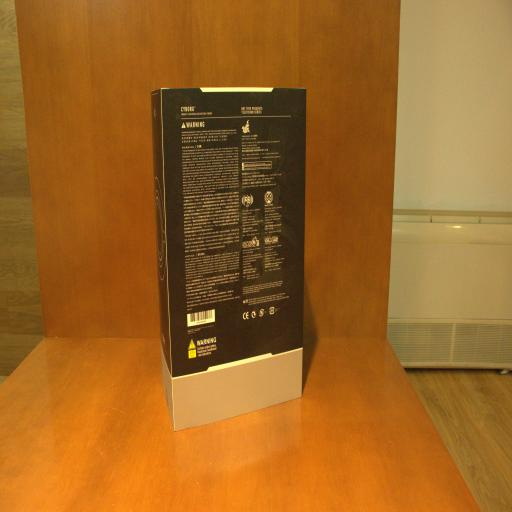Cyborg: (150, 87, 306, 431)
